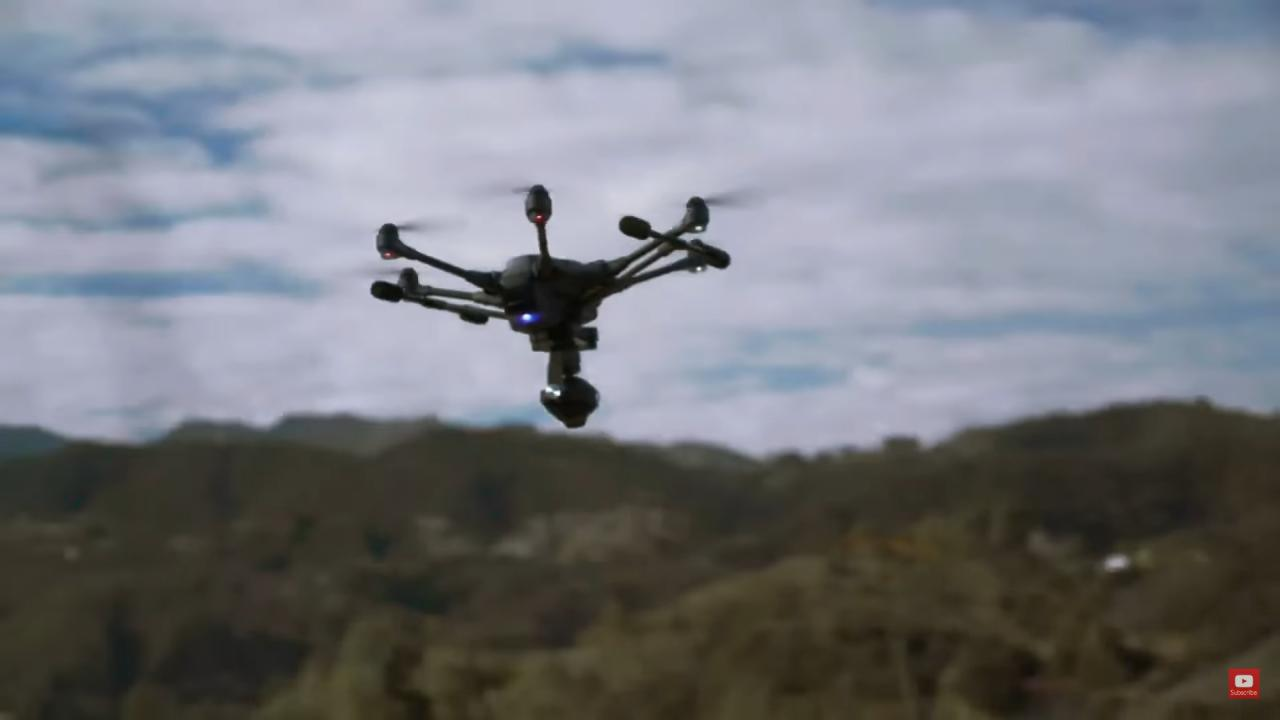Drone: (323, 128, 808, 452)
